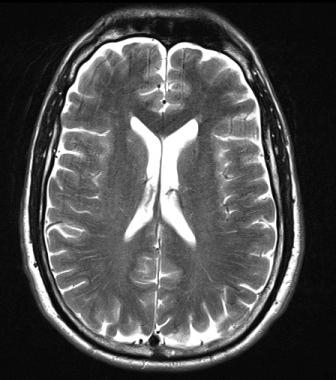Normal_Brain: (5, 1, 336, 380)
